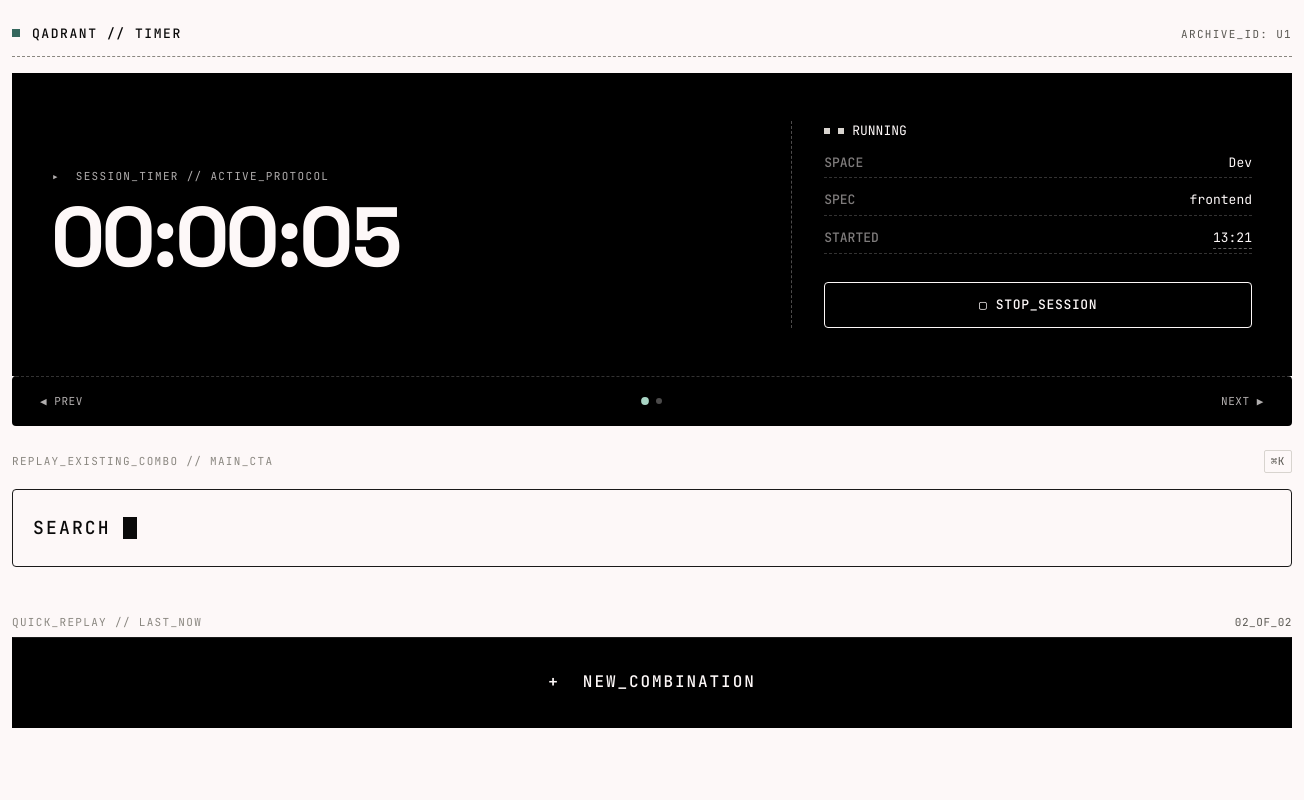
Test: Timer page › renders active sessions in a carousel on desktop when multiple timers are active
Expected: the text "00:00:05" is shown, x1=52 y1=183 x2=401 y2=291
Expected: the message with class "stage-drop" is shown, x1=12 y1=73 x2=1292 y2=376
Step 1. Click the button with aria-label "Next active session" → (1243, 401), box x1=1209 y1=385 x2=1276 y2=418
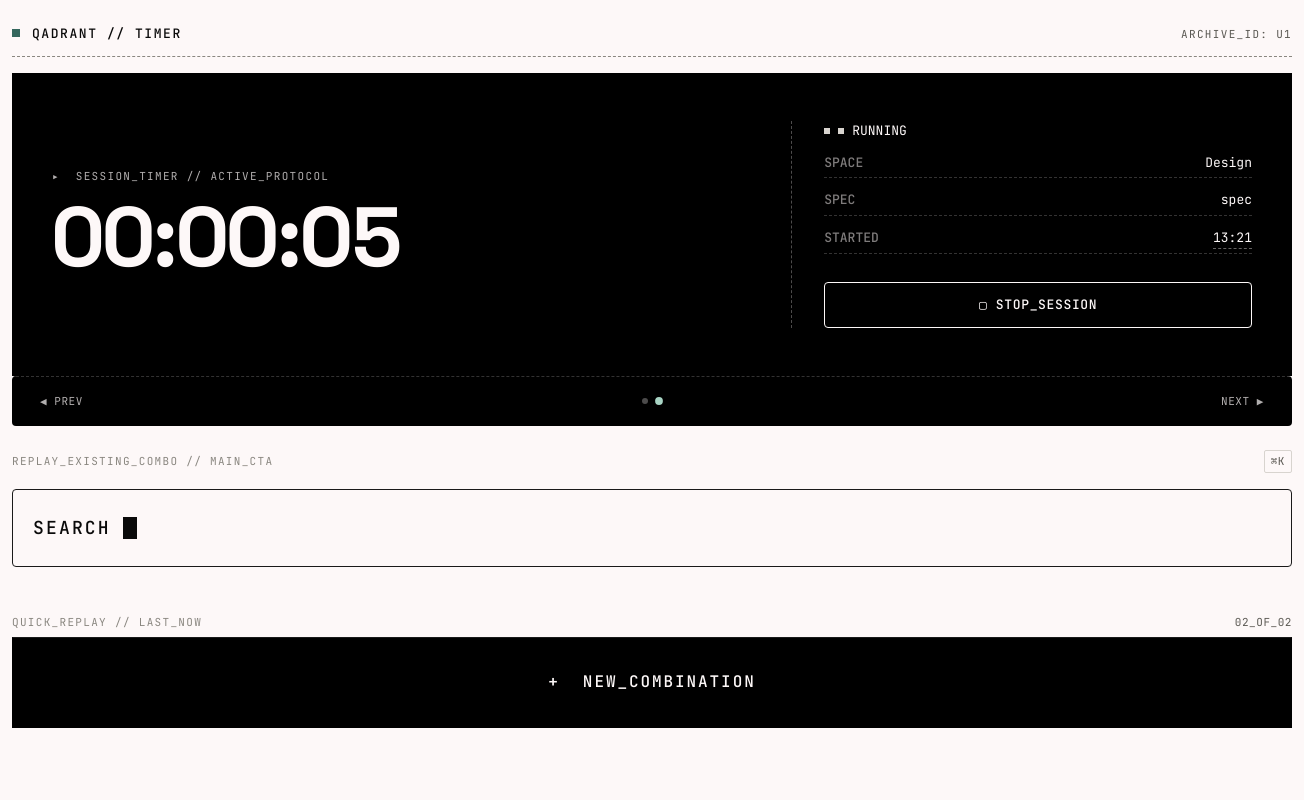
Expected: the text "Design" is shown, x1=1205 y1=153 x2=1252 y2=173
